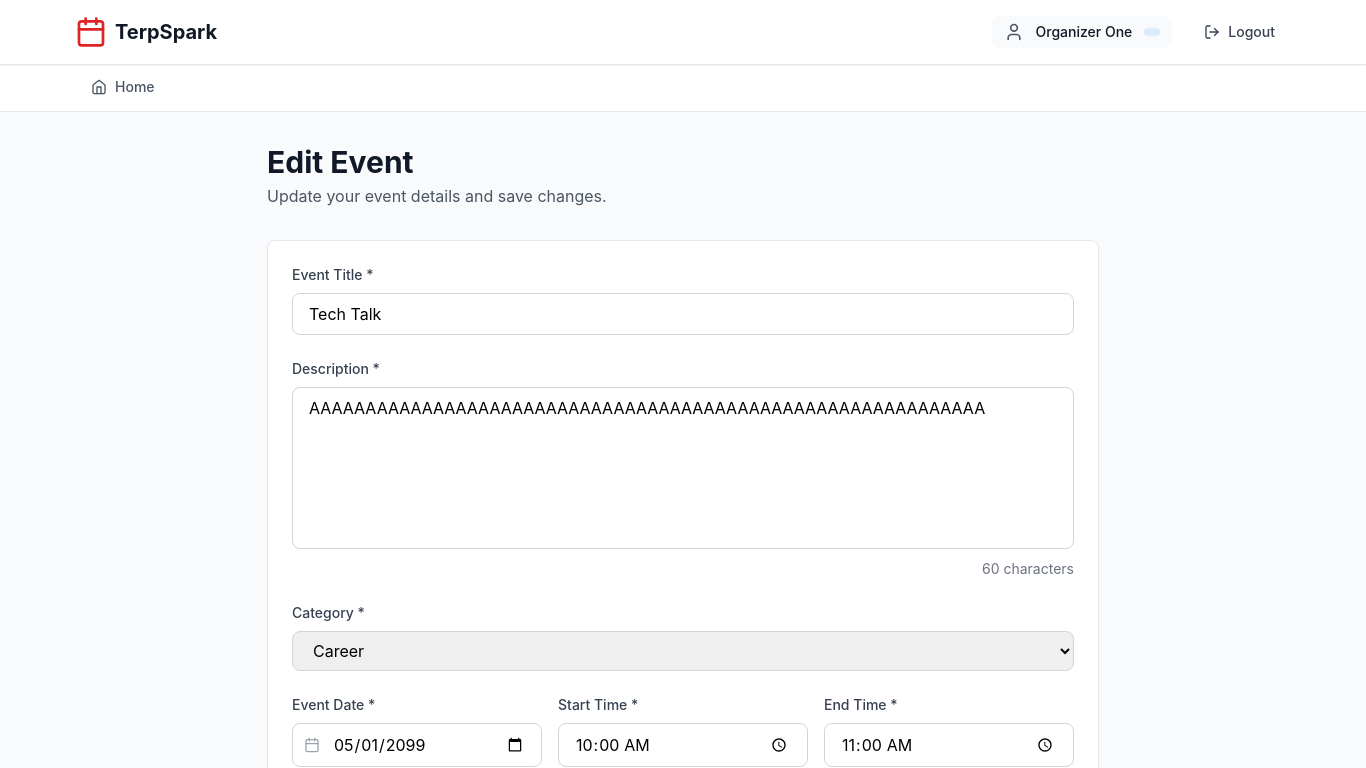
Test: EditEventPage › displays character count for description
Expected: the heading "Edit Event" is shown, [267,144,414,180]
Replace the text in the text box with placeholder "Provide a detailed description of your event..." with "New description text" at (683, 468), box [292,387,1074,549]
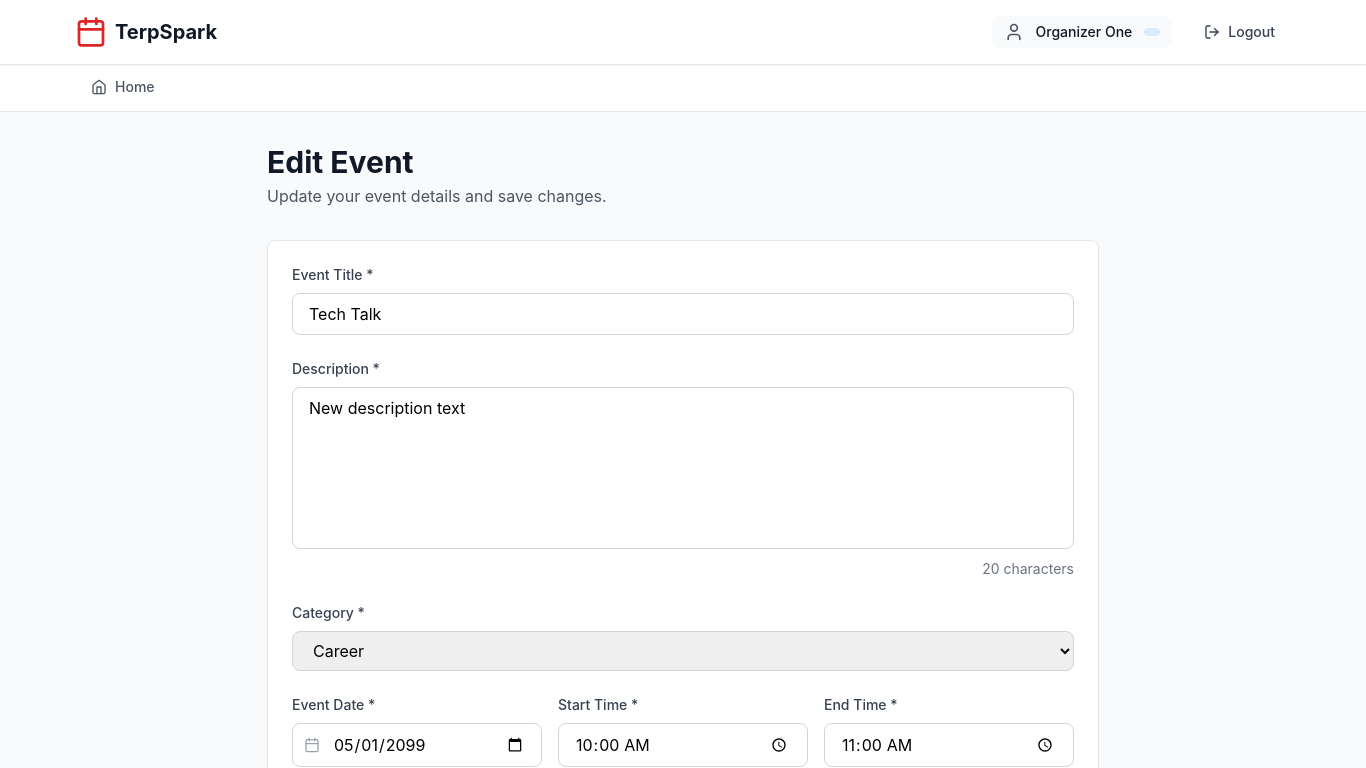
Expected: the text "20 characters" is shown, [982,559,1074,579]
